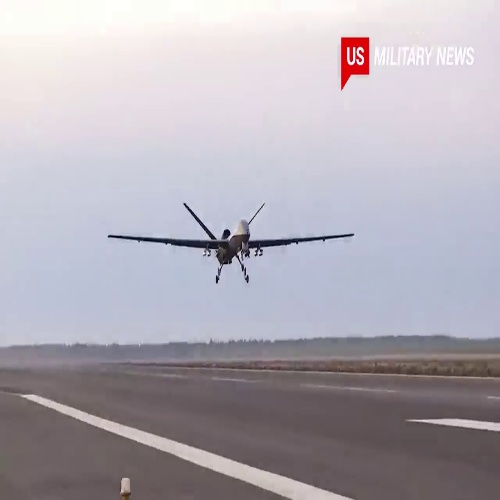uav338: (107, 202, 357, 283)
